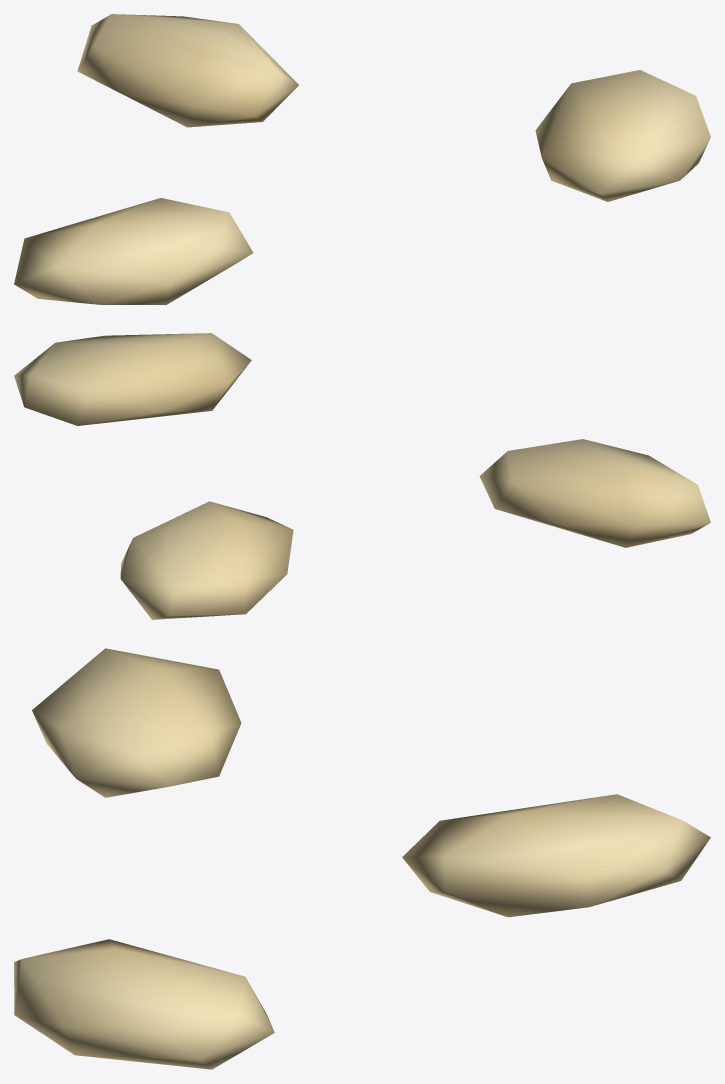
File: NP_G02_SeedCream_LOD1.fbx
The picture shows the model from 3 angles, top to bottom: view 1: azimuth 30°, elevation 25°; view 2: azimuth 150°, elevation 25°; view 3: azimuth 270°, elevation 25°; orthographic projection. The views are drawn at different scales.
Parts seen in each view (by area): view 1: NP_G02_SeedCream; view 2: NP_G02_SeedCream; view 3: NP_G02_SeedCream.
Part boxes in pixels (x1,y1,x2,y2): NP_G02_SeedCream: (14,14,710,304); NP_G02_SeedCream: (14,333,710,619); NP_G02_SeedCream: (14,648,710,1069).
Bounding box in the file's own units: 13.6 × 1.19 × 9.97.
